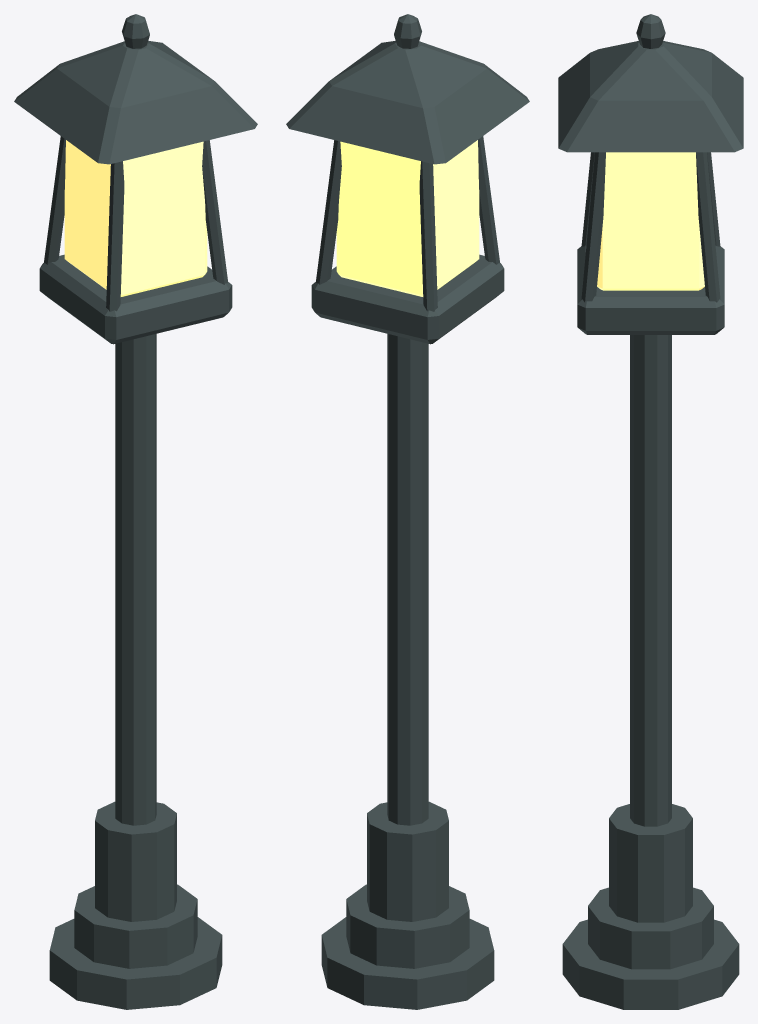
Rendered from HealingLight.glb.
3 renders of one model, left to right at view 1: azimuth 30°, elevation 25°; view 2: azimuth 150°, elevation 25°; view 3: azimuth 270°, elevation 25°, orthographic.
Parts seen in each view (by area): view 1: HealingLight; view 2: HealingLight; view 3: HealingLight.
Part boxes in pixels (box(x1,y1,x2,y2)): HealingLight: box(14, 14, 257, 1009); HealingLight: box(286, 14, 529, 1009); HealingLight: box(558, 14, 743, 1009).
Bounding box in the file's own units: 0.44 × 2.52 × 0.44.
